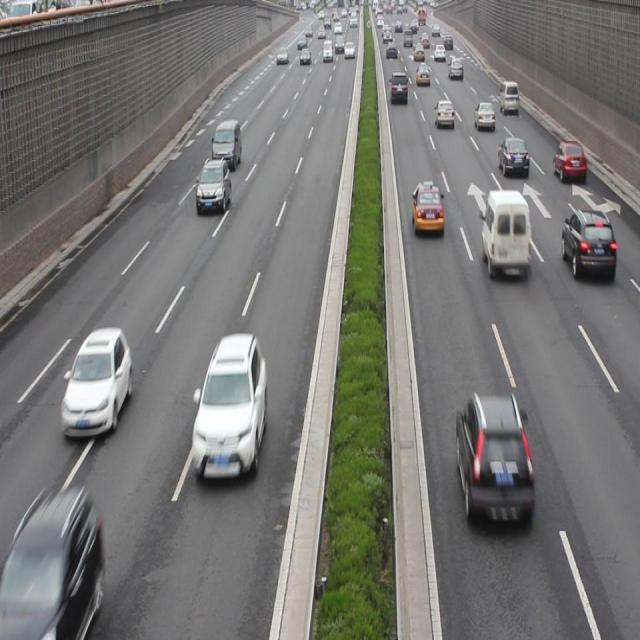car: (1, 489, 99, 622), (453, 392, 532, 532), (193, 336, 266, 478), (63, 328, 131, 436), (562, 205, 614, 277), (197, 158, 229, 213), (411, 183, 441, 237), (551, 138, 585, 184), (497, 136, 526, 178)
truck: (480, 186, 530, 280), (212, 119, 241, 167)
